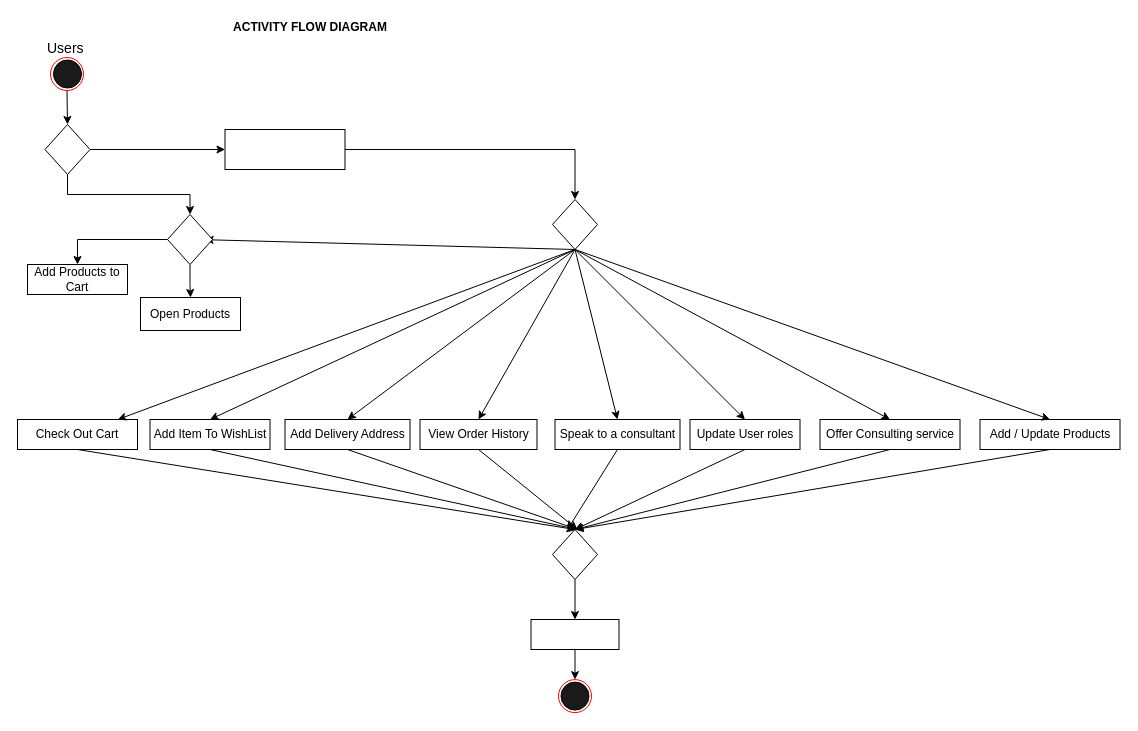
The diagram is 1138 pixels wide and 731 high, and some of its shapes have lost their labels. The shapes that lost their labels are listed below. From the top down, each one's box as (x1, y1, x2, y2) in pixels, then its label:
(224, 128, 345, 170): Login / Register
(530, 618, 619, 650): Log out
